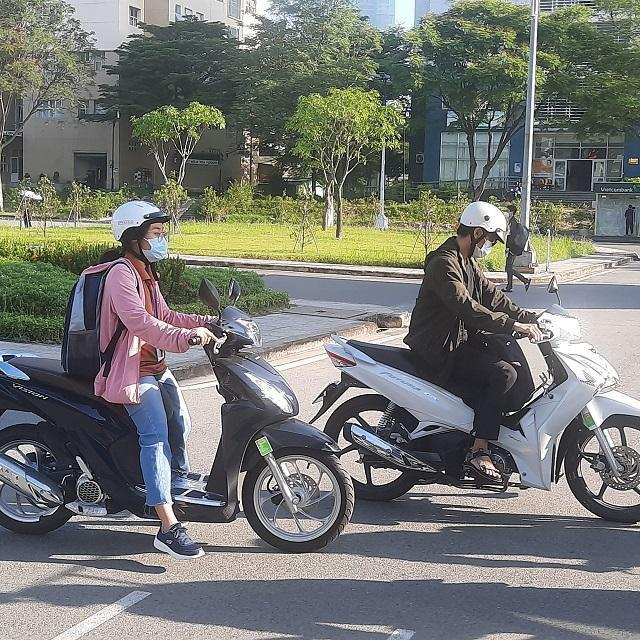Helmet: (110, 201, 172, 263), (452, 197, 506, 267)
